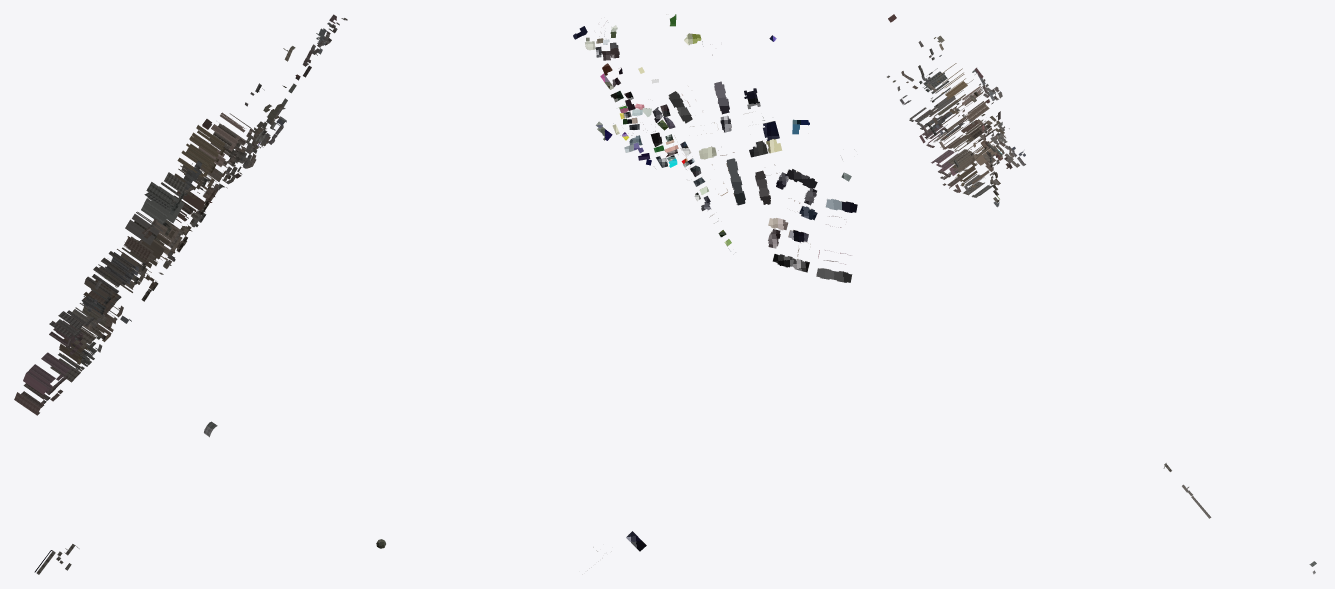
Rendered from tile_LOD4_r1_c0.glb.
The picture shows the model from 3 angles, left to right: view 1: azimuth 30°, elevation 25°; view 2: azimuth 150°, elevation 25°; view 3: azimuth 270°, elevation 25°; orthographic projection. The views are drawn at different scales.
Bounding box in the file's own units: 463 × 656 × 515.
381 materials, 381 textured.
